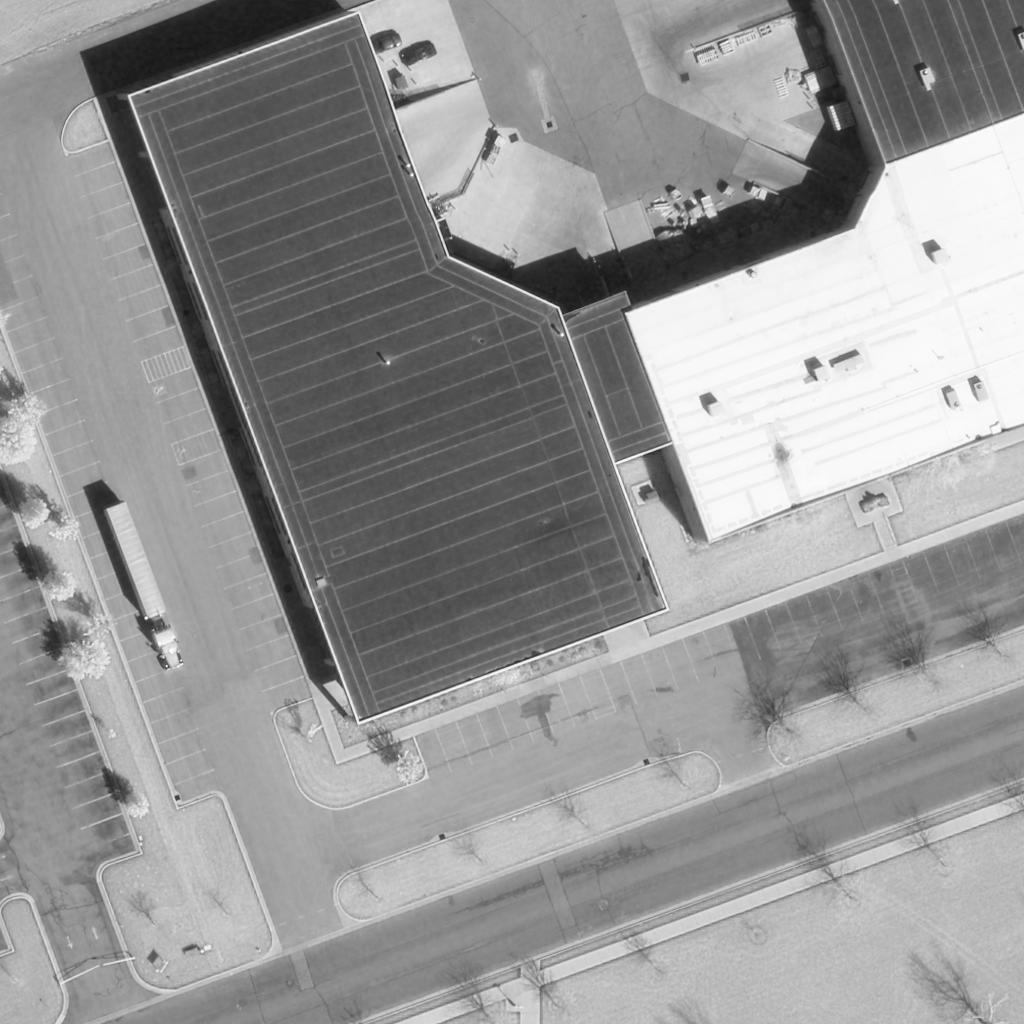vehicle: (104, 503, 186, 673), (402, 42, 438, 66), (370, 33, 402, 57)
